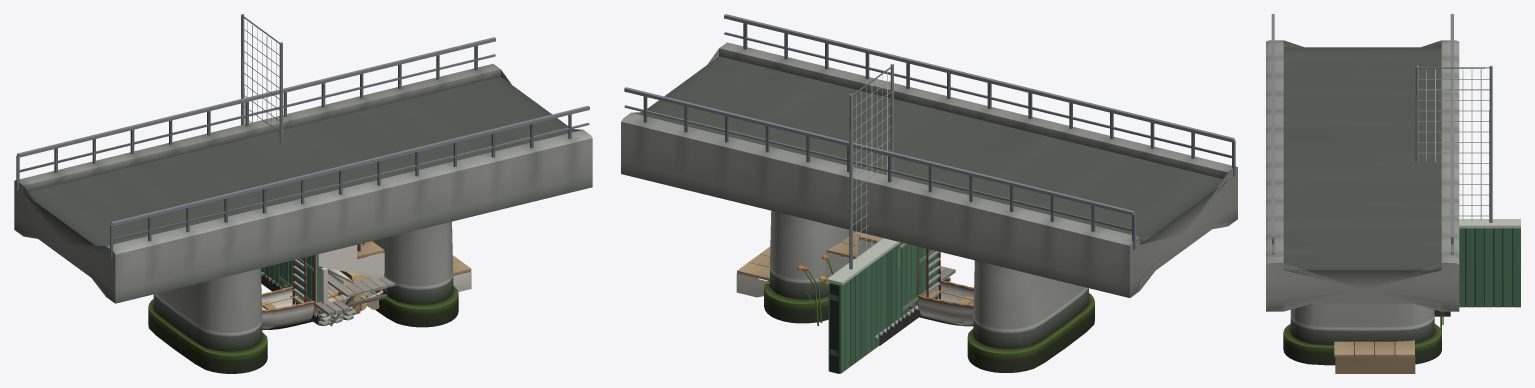
File: built.glb
The picture shows the model from 3 angles, left to right: view 1: azimuth 30°, elevation 25°; view 2: azimuth 150°, elevation 25°; view 3: azimuth 270°, elevation 25°; orthographic projection. The views are drawn at different scales.
Parts seen in each view (by area): view 1: bro, staket, trappa, roddbat, picknick, vedstapel, rutschkana, rabatt; view 2: bro, staket, trappa, roddbat, rabatt, rutschkana; view 3: bro, staket, trappa.
Part boxes in pixels (bbox=[...]): bro: bbox=[14, 37, 592, 373]; staket: bbox=[241, 14, 323, 302]; trappa: bbox=[318, 241, 471, 316]; roddbat: bbox=[261, 286, 339, 329]; picknick: bbox=[279, 274, 395, 326]; vedstapel: bbox=[295, 242, 382, 316]; rutschkana: bbox=[292, 243, 367, 322]; rabatt: bbox=[261, 271, 355, 326]; bro: bbox=[621, 14, 1237, 372]; staket: bbox=[827, 64, 938, 373]; trappa: bbox=[736, 231, 906, 297]; roddbat: bbox=[917, 280, 973, 326]; rabatt: bbox=[797, 254, 937, 345]; rutschkana: bbox=[917, 246, 940, 317]; bro: bbox=[1266, 14, 1459, 365]; staket: bbox=[1415, 65, 1520, 307]; trappa: bbox=[1334, 340, 1415, 373].
Bounding box in the file's own units: 30.07 × 15.5 × 14.5.
